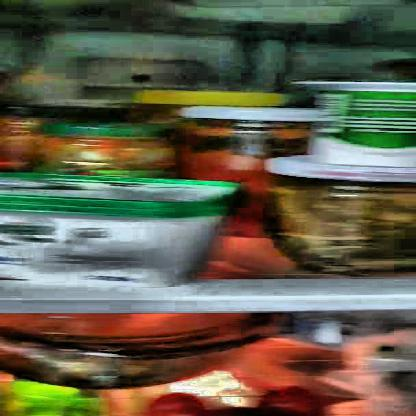cheese: (0, 174, 238, 284)
tomato: (151, 389, 319, 415)
yoghurt: (294, 80, 416, 166)
